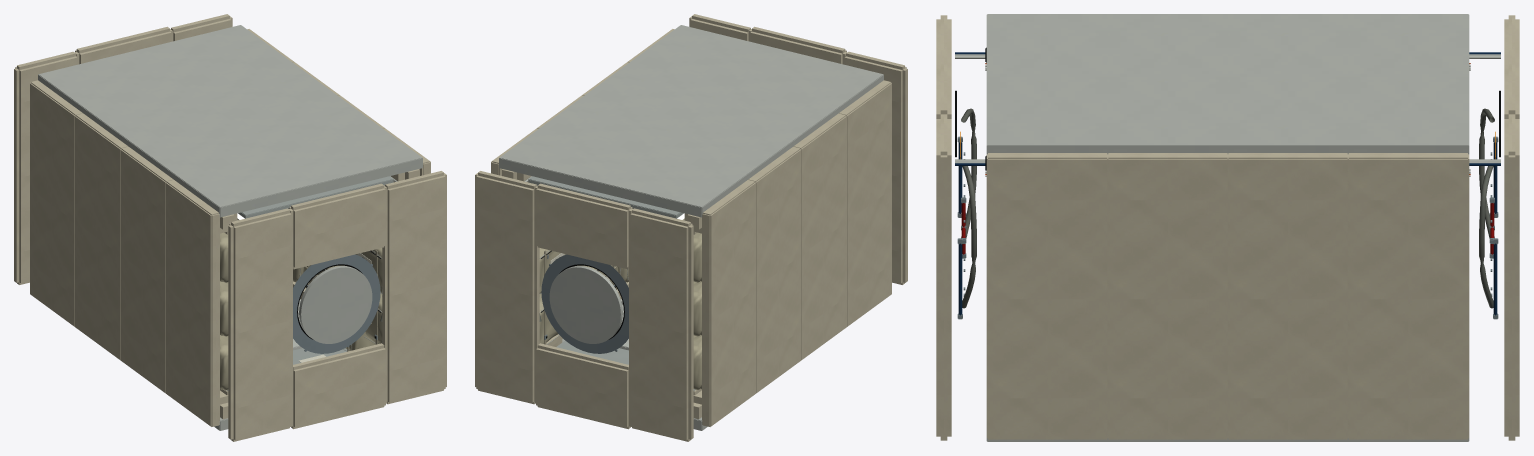
The model's file is rassvet.glb.
The picture shows the model from 3 angles, left to right: view 1: azimuth 30°, elevation 25°; view 2: azimuth 150°, elevation 25°; view 3: azimuth 270°, elevation 25°; orthographic projection. The views are drawn at different scales.
Visible parts, largest first — view 1: rassvet_detailed; view 2: rassvet_detailed; view 3: rassvet_detailed.
Boxes of the visible parts, box(x1,y1,x2,y2) form: rassvet_detailed: box(14, 14, 446, 441); rassvet_detailed: box(475, 14, 907, 441); rassvet_detailed: box(936, 14, 1519, 441).
Bounding box in the file's own units: 3.09 × 3 × 5.34.
18 materials, 15 textured.
